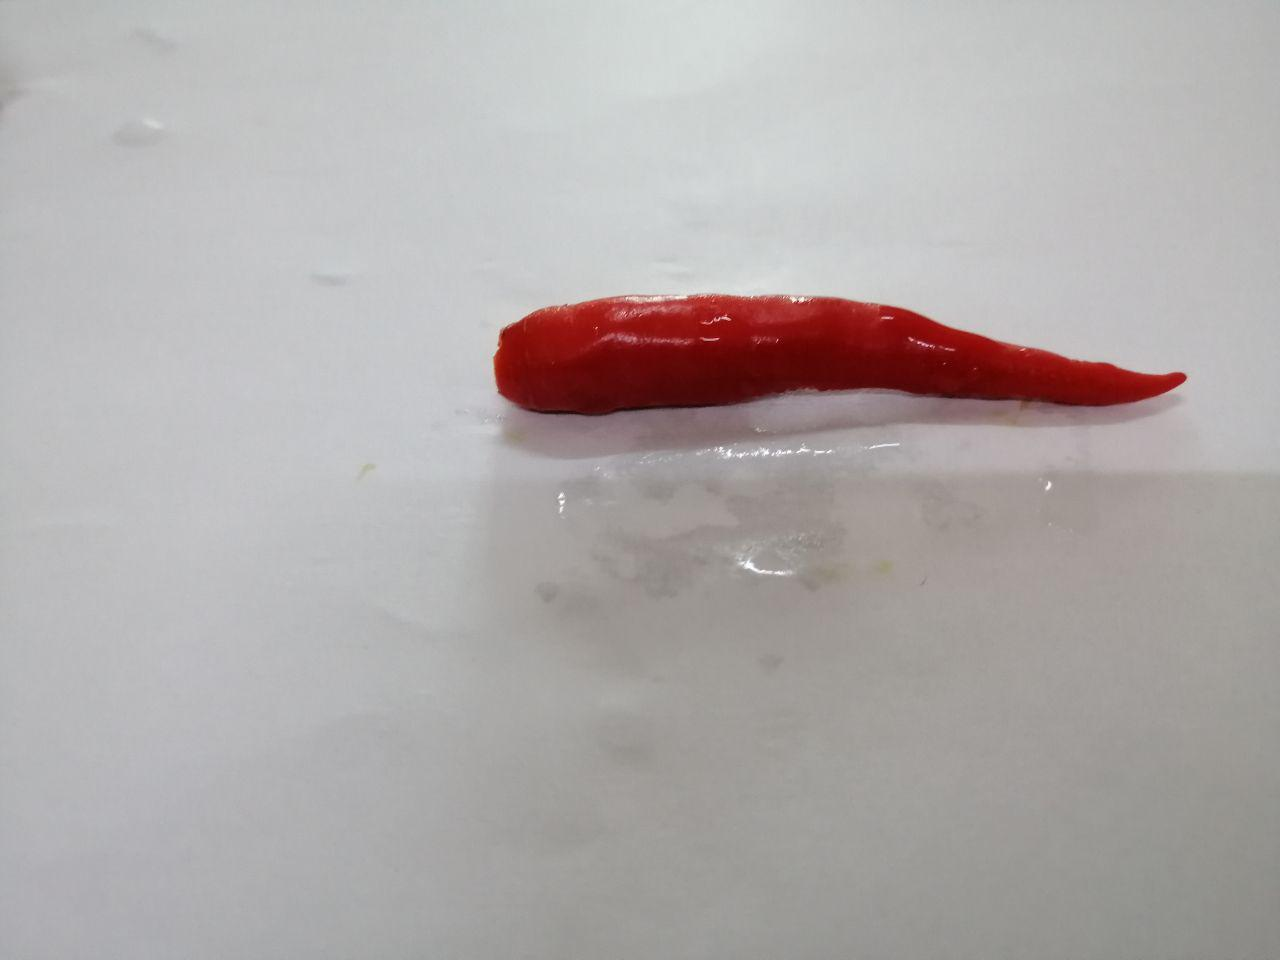lada merah: (485, 271, 1213, 474)
